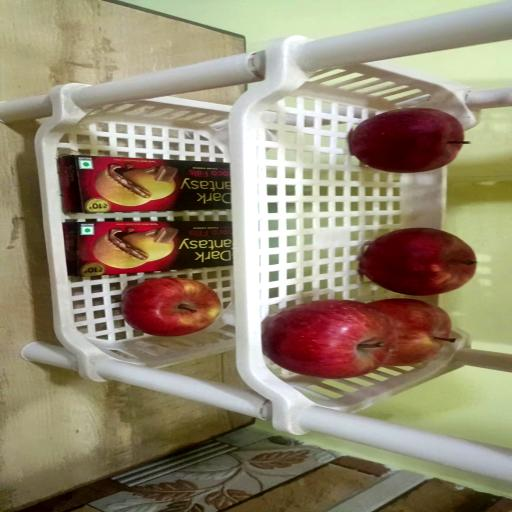Apple: (262, 300, 397, 379), (358, 228, 477, 296), (347, 109, 469, 173), (121, 277, 221, 337), (370, 298, 455, 366)
Choco Fills: (57, 154, 230, 213), (60, 221, 233, 277)
